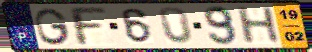0: (158, 6, 195, 46)
6: (120, 7, 154, 45)
9: (201, 5, 240, 48)
F: (65, 6, 110, 47)
G: (33, 7, 73, 46)
H: (233, 5, 283, 46)
